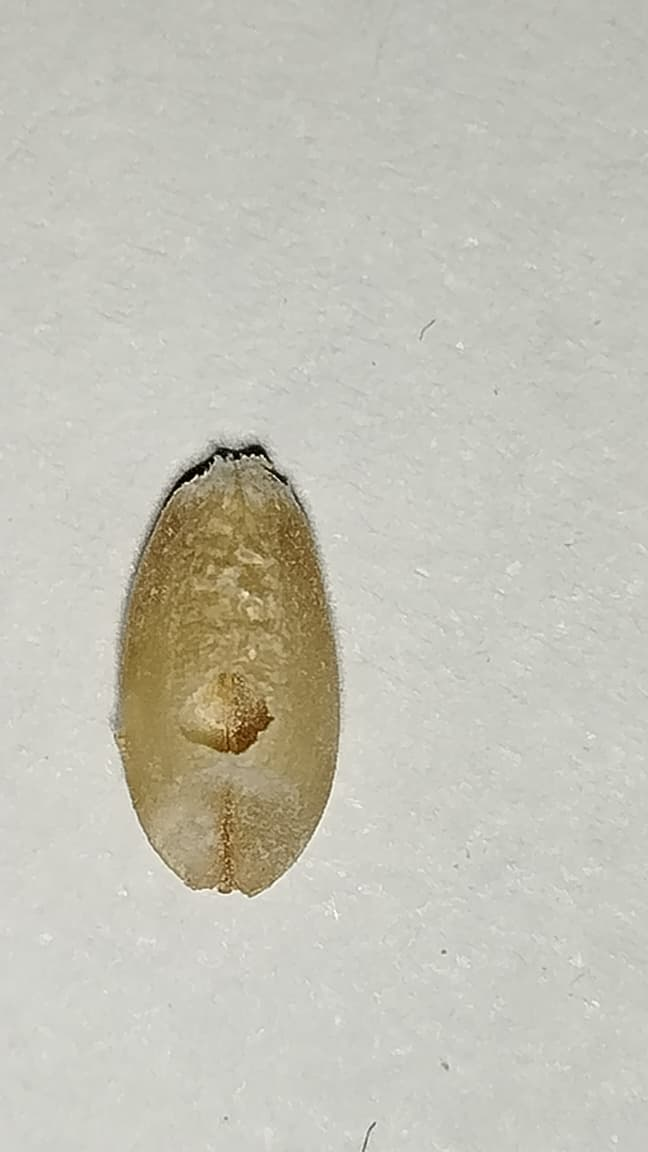damage: (118, 454, 338, 894)
insectdamage: (138, 757, 327, 896), (167, 649, 279, 758)
